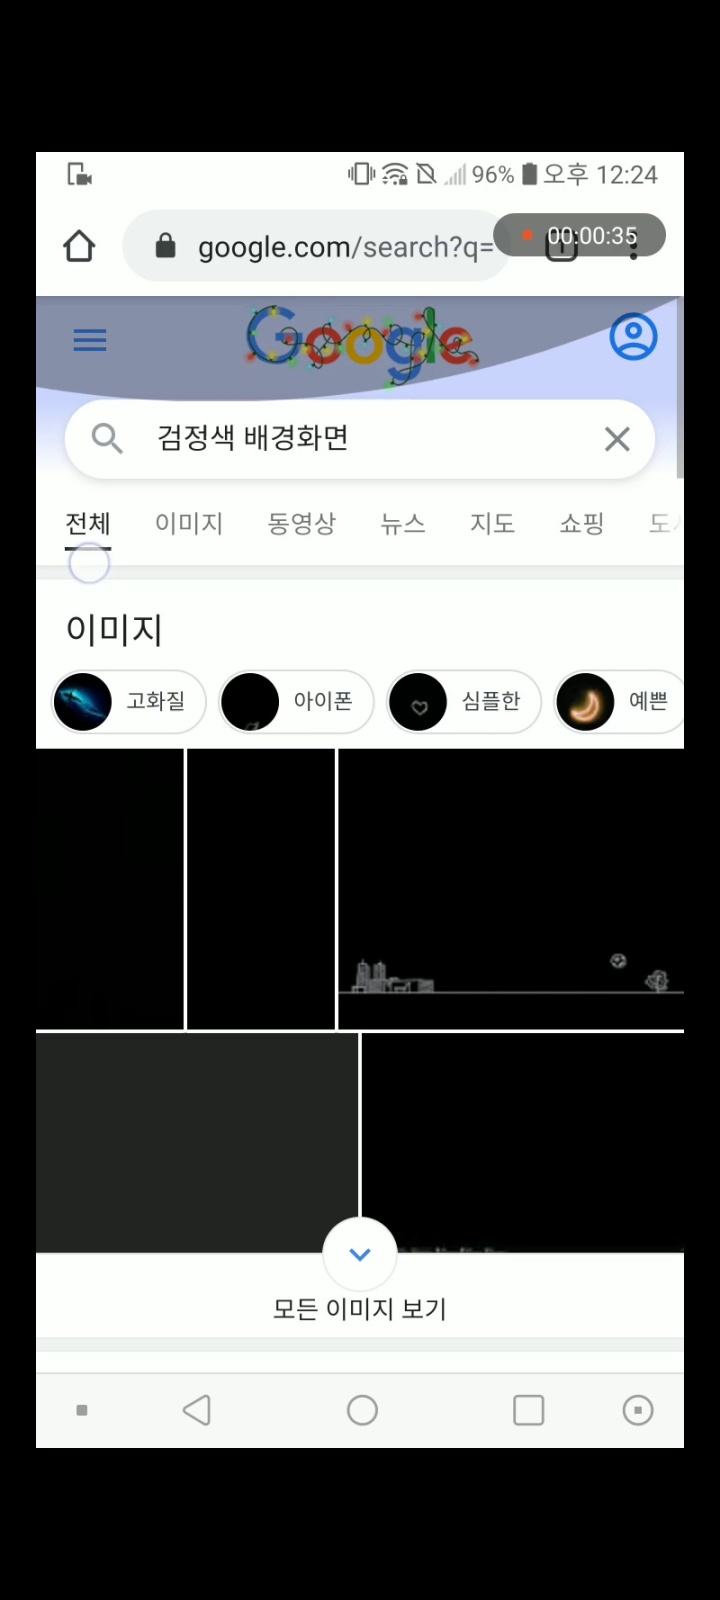Cursor: (67, 541, 112, 586)
